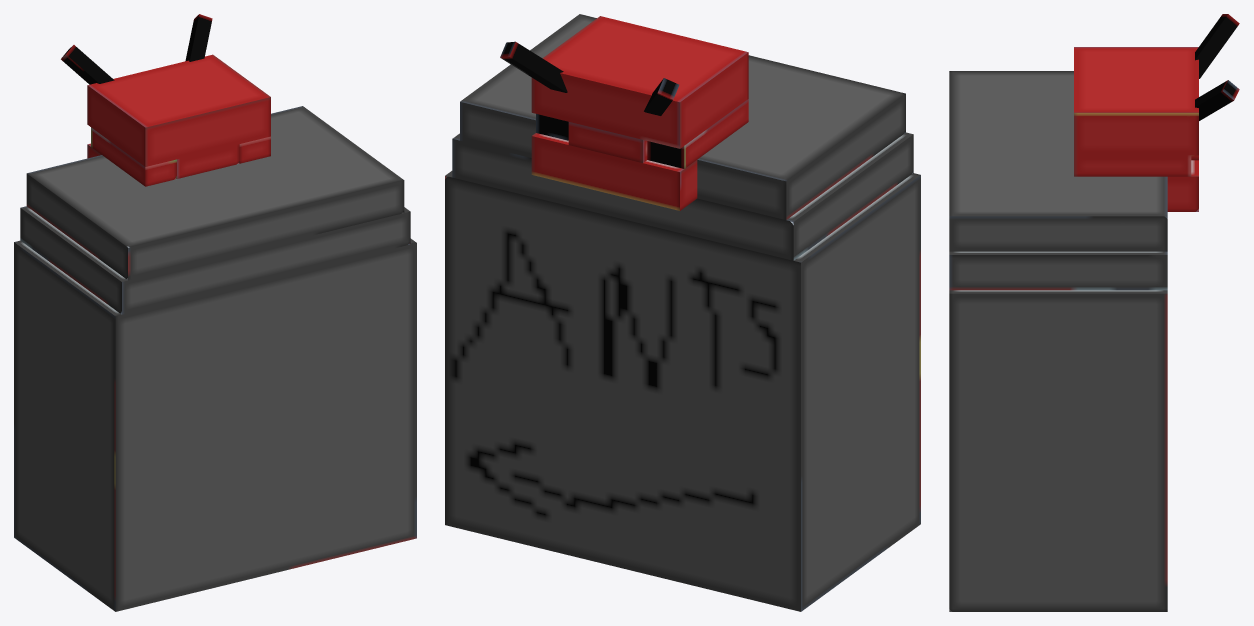
File: antssign.obj
3 renders of one model, left to right at view 1: azimuth 30°, elevation 25°; view 2: azimuth 150°, elevation 25°; view 3: azimuth 270°, elevation 25°, orthographic. The views are drawn at different scales.
Parts seen in each view (by area): view 1: cube; view 2: cube; view 3: cube.
Part boxes in pixels (<box>): cube: <box>14,14,416,611</box>; cube: <box>445,14,920,611</box>; cube: <box>949,14,1239,611</box>.
Bounding box in the file's own units: 3 × 4.29 × 2.33.
Materials: 1 (1 with a texture image).
